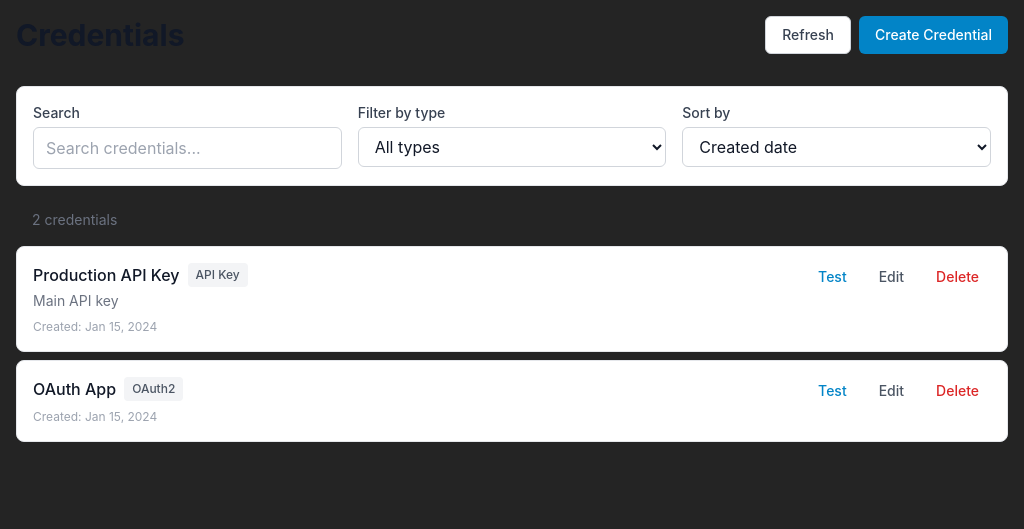
Scenario: CredentialManager › shows error message when test fails
Click the button "Test" in the row of "Production API Key" at (832, 277), box [806,263,859,291]
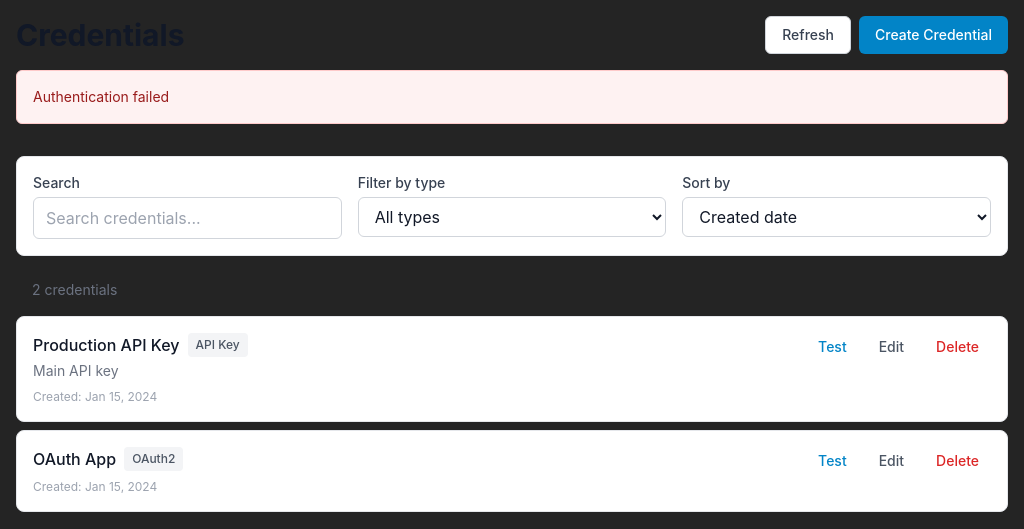
Expected: the text "Authentication failed" is shown, [33,88,169,105]
